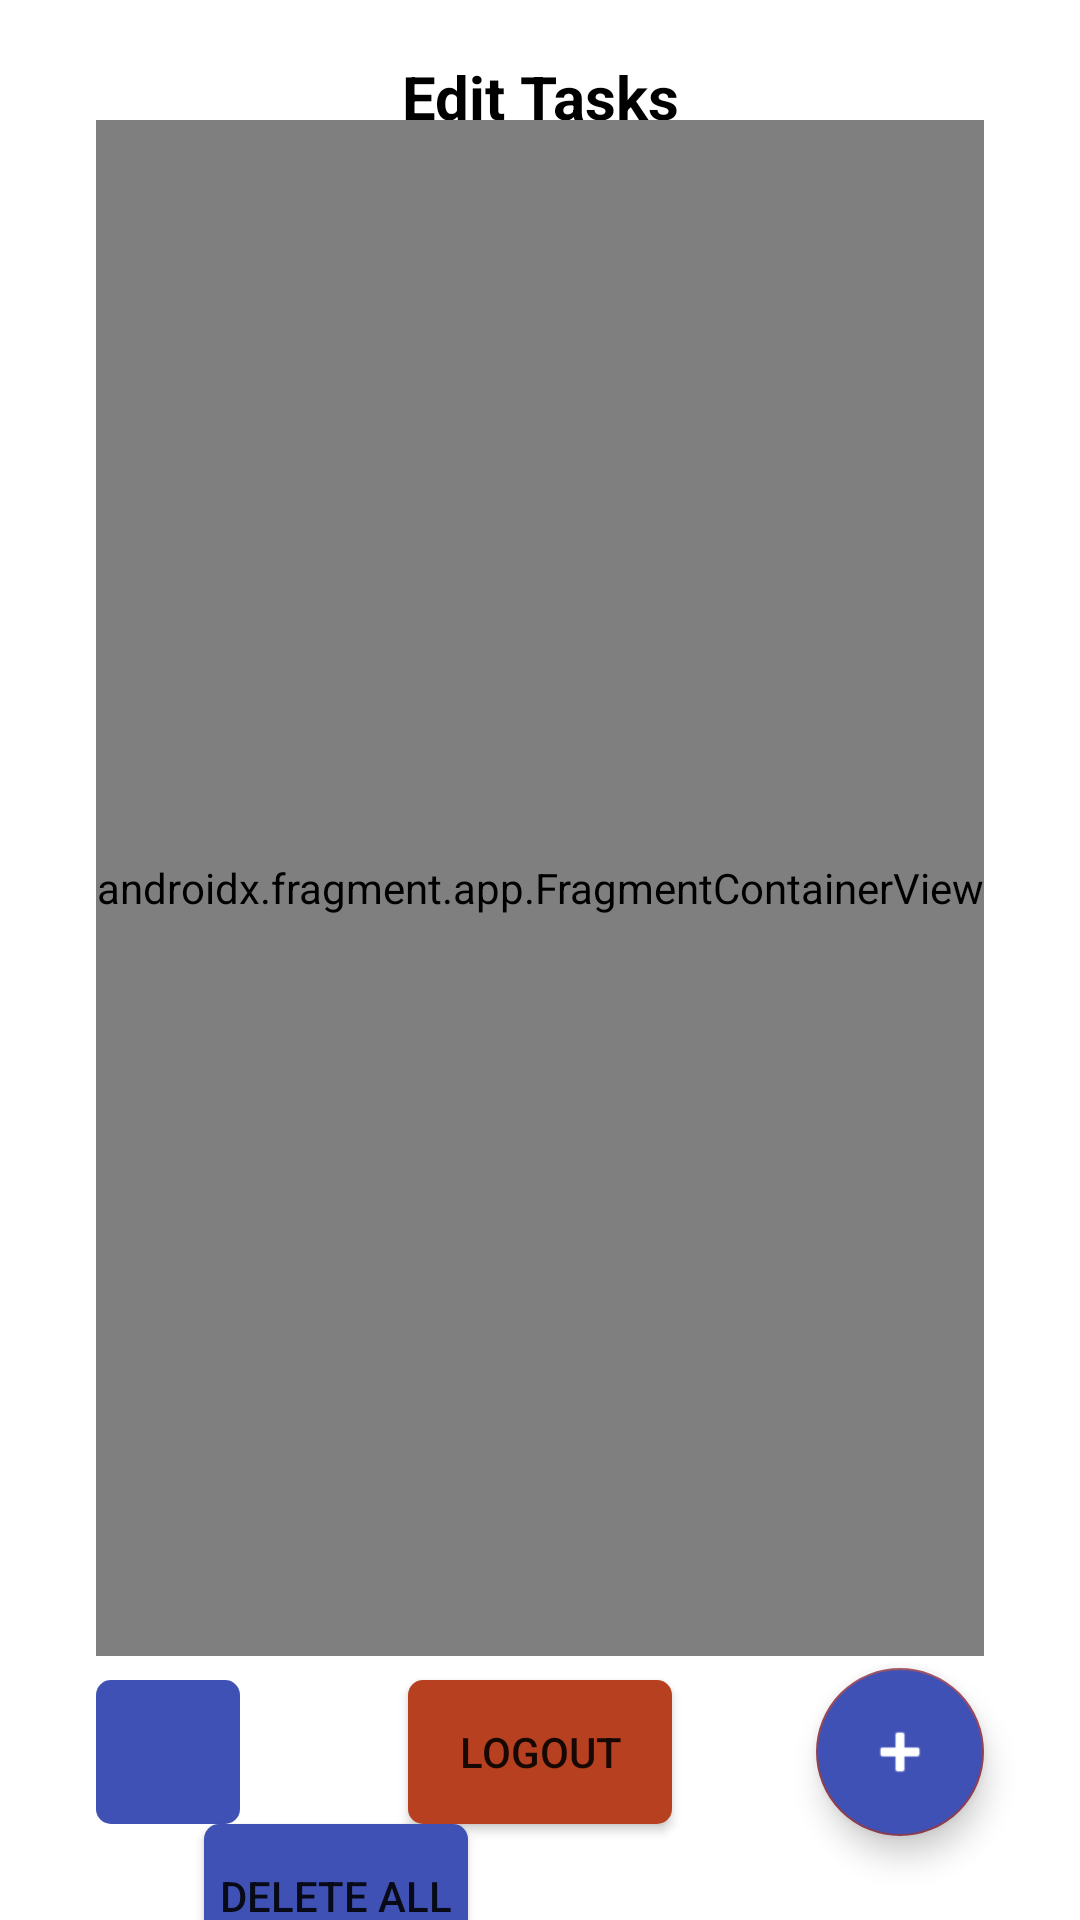

Locate icon controls on the screen. Image size 1080 x 1920, boxes as [x1, y1, x2, y2].
Add task: [816, 1668, 984, 1836]
